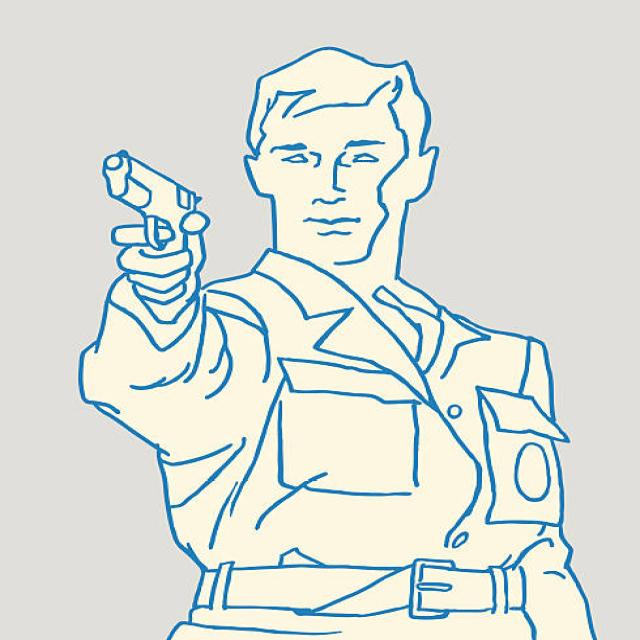soldier: (85, 48, 601, 640)
